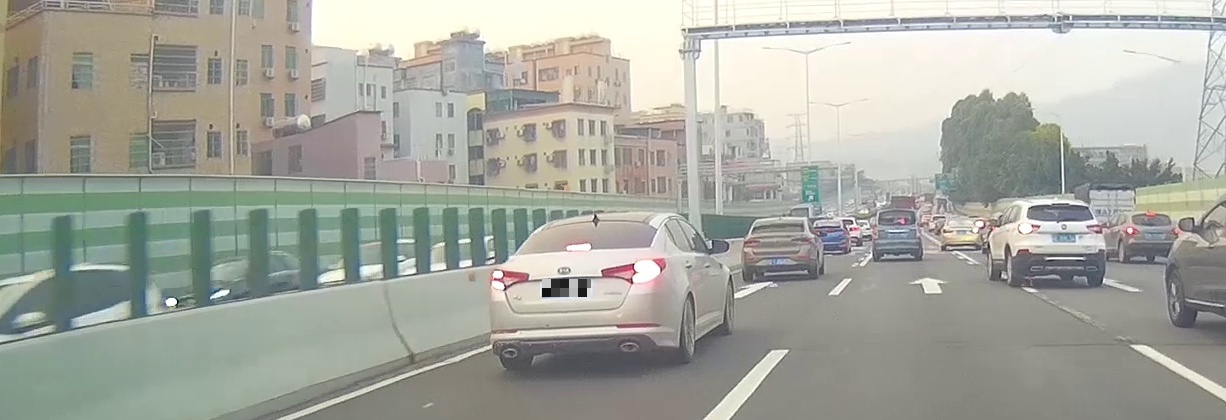L_light: (490, 269, 529, 292), (1018, 224, 1041, 234), (743, 239, 760, 247), (1126, 227, 1140, 235), (873, 225, 879, 238), (943, 228, 954, 233)
R_light: (601, 258, 667, 284), (1086, 224, 1103, 234), (792, 236, 810, 243), (915, 223, 921, 236), (969, 228, 979, 233), (1171, 228, 1179, 234)
T_light: (565, 242, 592, 252), (1052, 202, 1070, 207), (1145, 212, 1155, 216), (774, 220, 786, 223), (893, 210, 902, 213), (956, 218, 965, 221)
day-brake: (488, 211, 673, 371)
day-left: (1017, 199, 1106, 286), (1125, 212, 1180, 264)
day-no: (741, 216, 814, 281), (872, 208, 922, 259)
day-right: (941, 217, 981, 250)
plate_1: (542, 279, 591, 297)
